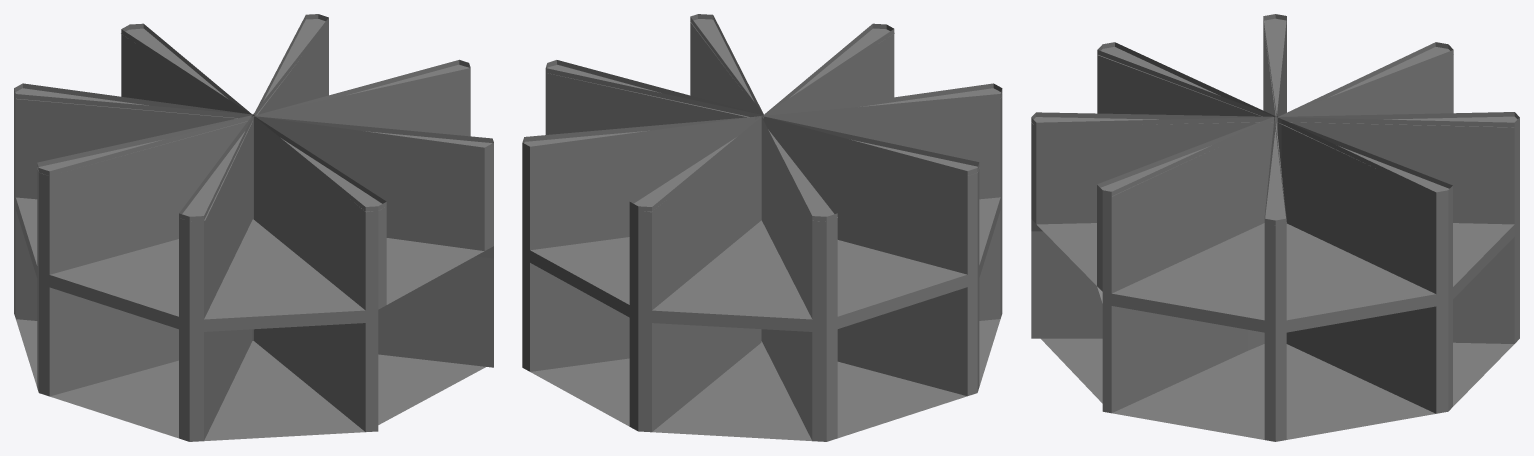
Rendered from Computer Lab Desks.glb.
The picture shows the model from 3 angles, left to right: view 1: azimuth 30°, elevation 25°; view 2: azimuth 150°, elevation 25°; view 3: azimuth 270°, elevation 25°; orthographic projection.
Visible parts, largest first — view 1: Cylinder; view 2: Cylinder; view 3: Cylinder.
Boxes of the visible parts, x1,y1,x2,y2 form: Cylinder: [14, 14, 493, 441]; Cylinder: [522, 14, 1002, 441]; Cylinder: [1031, 14, 1519, 441].
Size of the model in its own units: 4 by 2 by 4.
1 material, 1 textured.
